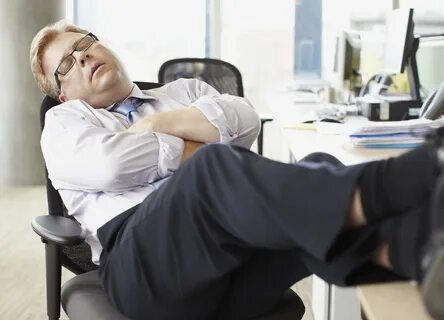sleep: (29, 20, 440, 320)
